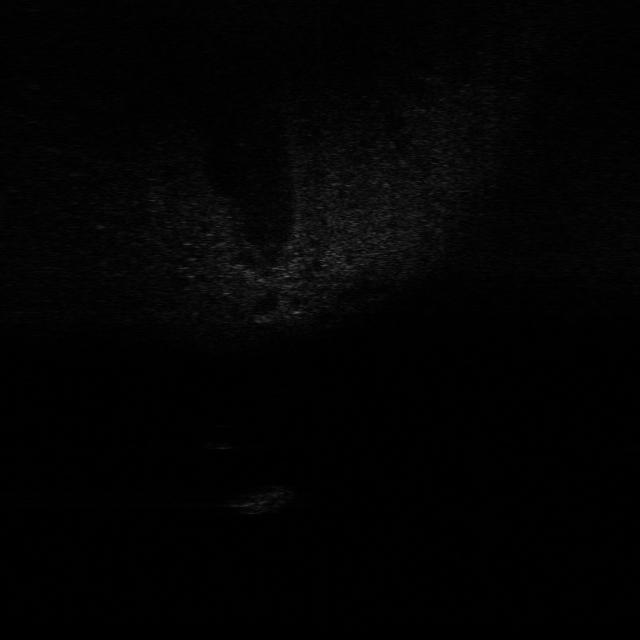ball: (208, 432, 240, 455)
circle cage: (222, 475, 318, 519)
